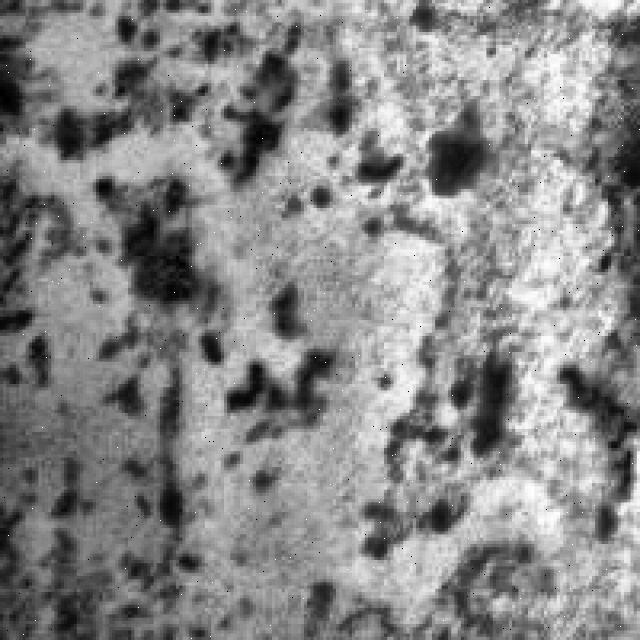Patches: (428, 102, 499, 198)
Rolled_in_Scale: (4, 41, 438, 614)
Scratches: (557, 356, 640, 502)
